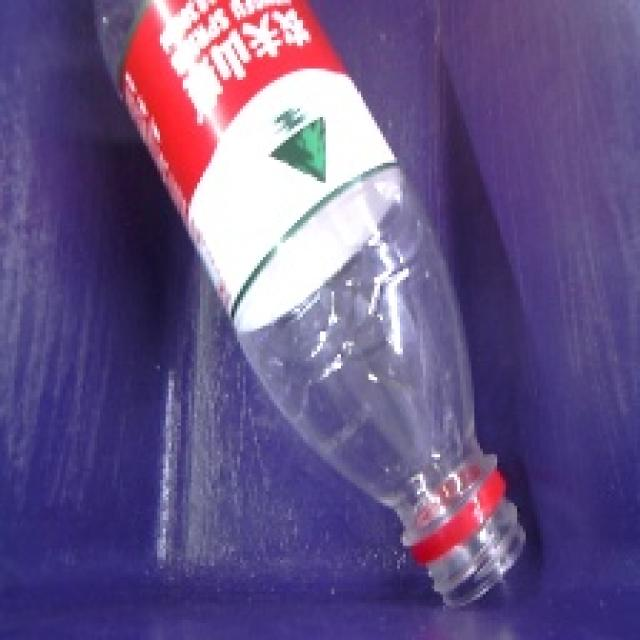plastic: (63, 0, 541, 621)
